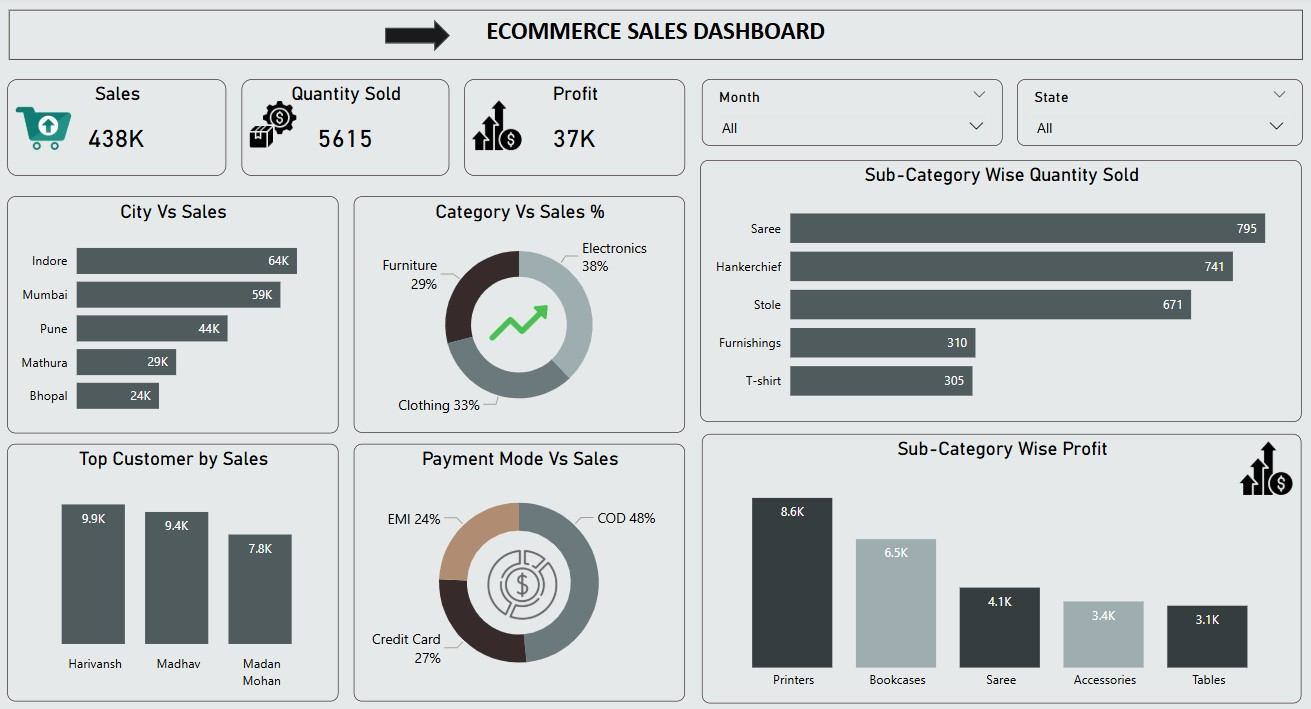

Layout of this report page (visuals, bound fields, positions):
{"tool":"powerbi","page":{"name":"Page 1","canvas":[1280,720],"ordinal":0},"visuals":[{"type":"textbox","box":[9,14.4,1257.2,48.7],"z":0},{"type":"barChart","title":"Sub-Category Wise Quantity Sold","fields":{"Category":["Details.Sub-Category"],"Y":["Details.Quantity"]},"box":[681.8,160.5,584.4,254.3],"z":1000},{"type":"columnChart","title":"Sub-Category Wise Profit","fields":{"Category":["Details.Sub-Category"],"Y":["Details.Profit"]},"box":[683.6,425.7,582.6,261.5],"z":2000},{"type":"donutChart","title":" Payment Mode Vs Sales","fields":{"Category":["Details.PaymentMode"],"Y":["Details.Sales"]},"box":[345.4,436.1,322,250.1],"z":3000},{"type":"donutChart","title":"Category Vs Sales %","fields":{"Category":["Details.Category"],"Y":["Details.Sales"]},"box":[345.4,195.4,322,229.8],"z":4000},{"type":"card","title":"Sales","fields":{"Values":["Details.Amount"]},"box":[7.2,81.2,212.8,93.8],"z":5000},{"type":"card","title":"Quantity Sold","fields":{"Values":["Details.Quantity"]},"box":[236.3,81.2,202,93.8],"z":6000},{"type":"card","title":"Profit","fields":{"Values":["Details.Profit"]},"box":[452.7,81.2,214.6,93.8],"z":7000},{"type":"barChart","title":"City Vs Sales","fields":{"Category":["Orders.City"],"Y":["Details.Amount"]},"box":[8.3,195,321.7,230],"z":8000},{"type":"columnChart","title":"Top Customer by Sales","fields":{"Category":["Orders.CustomerName"],"Y":["Details.Sales"]},"box":[8.3,436.7,321.7,250],"z":9000},{"type":"slicer","fields":{"Values":["Orders.State"]},"box":[988.4,81.2,277.8,64.9],"z":10000},{"type":"slicer","fields":{"Values":["Orders.Order Date.Variation.Date Hierarchy.Month"]},"box":[683.6,81.2,292.2,64.9],"z":11000},{"type":"shape","box":[375.2,23.4,63.1,30.7],"z":12000},{"type":"image","box":[452.7,81.2,63.1,90.2],"z":13000},{"type":"image","box":[236.3,92,61.3,68.5],"z":14000},{"type":"image","box":[7.2,90.2,70.3,72.1],"z":15000},{"type":"image","box":[1195.9,425.7,70.3,66.7],"z":16000},{"type":"image","box":[469,277.8,70.3,83],"z":17000},{"type":"image","box":[469,530.3,77.6,84.8],"z":18000}]}

Visuals, with their boxes on the page's 1280x720 design canvas (x1, y1, x2, y2). These are canvas units, not pixel positions in the 1311x709 screenshot, which may show the page scaled, cropped or inside an application window:
textbox: x1=9, y1=14, x2=1266, y2=63
"Sub-Category Wise Quantity Sold" barChart: x1=682, y1=160, x2=1266, y2=415
"Sub-Category Wise Profit" columnChart: x1=684, y1=426, x2=1266, y2=687
" Payment Mode Vs Sales" donutChart: x1=345, y1=436, x2=667, y2=686
"Category Vs Sales %" donutChart: x1=345, y1=195, x2=667, y2=425
"Sales" card: x1=7, y1=81, x2=220, y2=175
"Quantity Sold" card: x1=236, y1=81, x2=438, y2=175
"Profit" card: x1=453, y1=81, x2=667, y2=175
"City Vs Sales" barChart: x1=8, y1=195, x2=330, y2=425
"Top Customer by Sales" columnChart: x1=8, y1=437, x2=330, y2=687
slicer - Orders.State: x1=988, y1=81, x2=1266, y2=146
slicer - Orders.Order Date.Variation.Date Hierarchy.Month: x1=684, y1=81, x2=976, y2=146
shape: x1=375, y1=23, x2=438, y2=54
image: x1=453, y1=81, x2=516, y2=171
image: x1=236, y1=92, x2=298, y2=160
image: x1=7, y1=90, x2=78, y2=162
image: x1=1196, y1=426, x2=1266, y2=492
image: x1=469, y1=278, x2=539, y2=361
image: x1=469, y1=530, x2=547, y2=615
